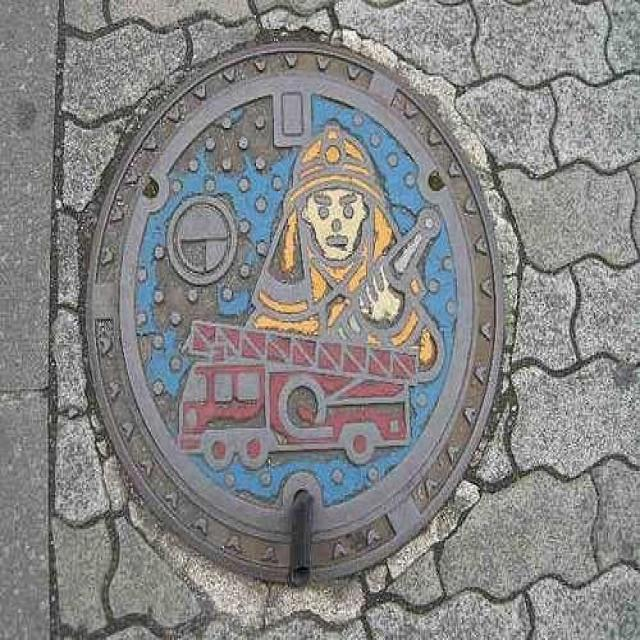manhole: (79, 43, 503, 585)
